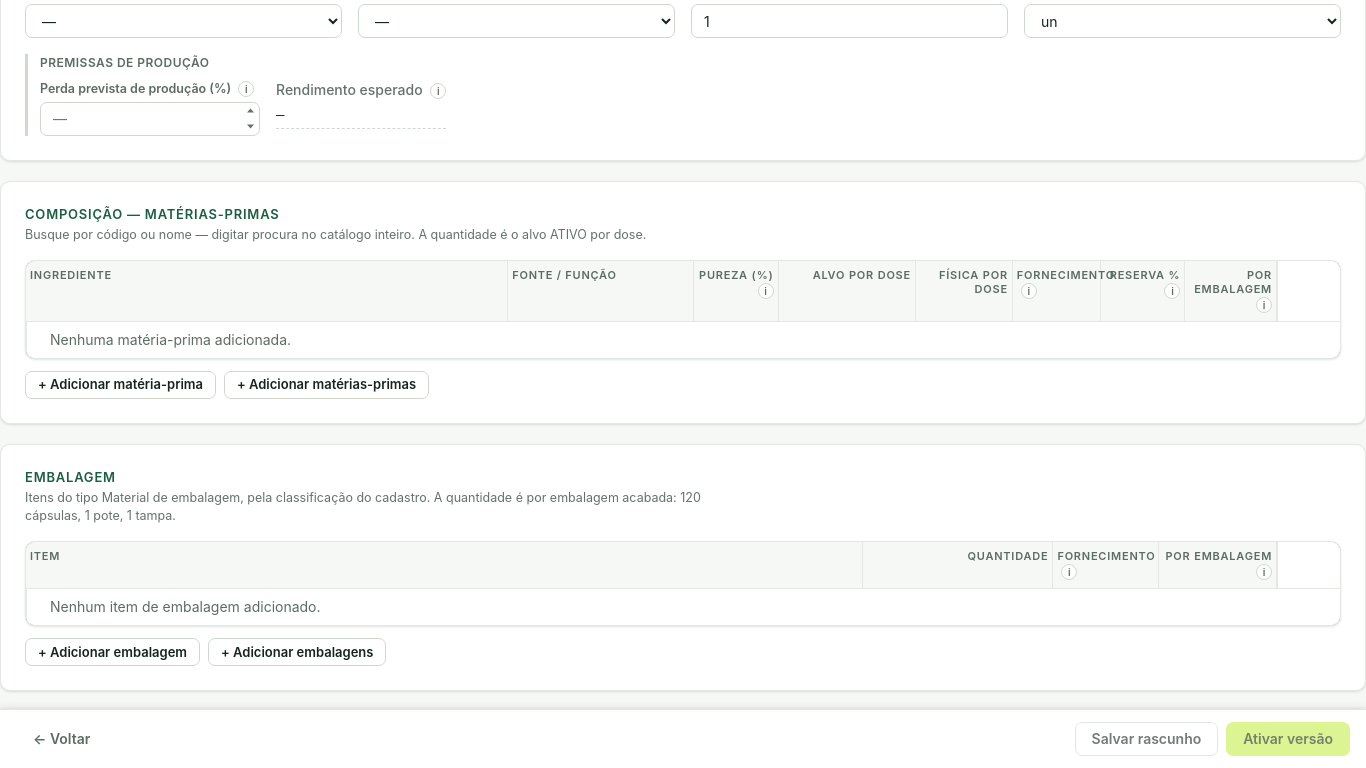
Scenario: FORM-UOM-01 — unidade do componente › linha sem unidade escolhida diz o que falta e prende o salvar
(page scrolled)
Click the button "+ Adicionar matéria-prima": {"x": 120, "y": 385} 25,371 -> 216,399
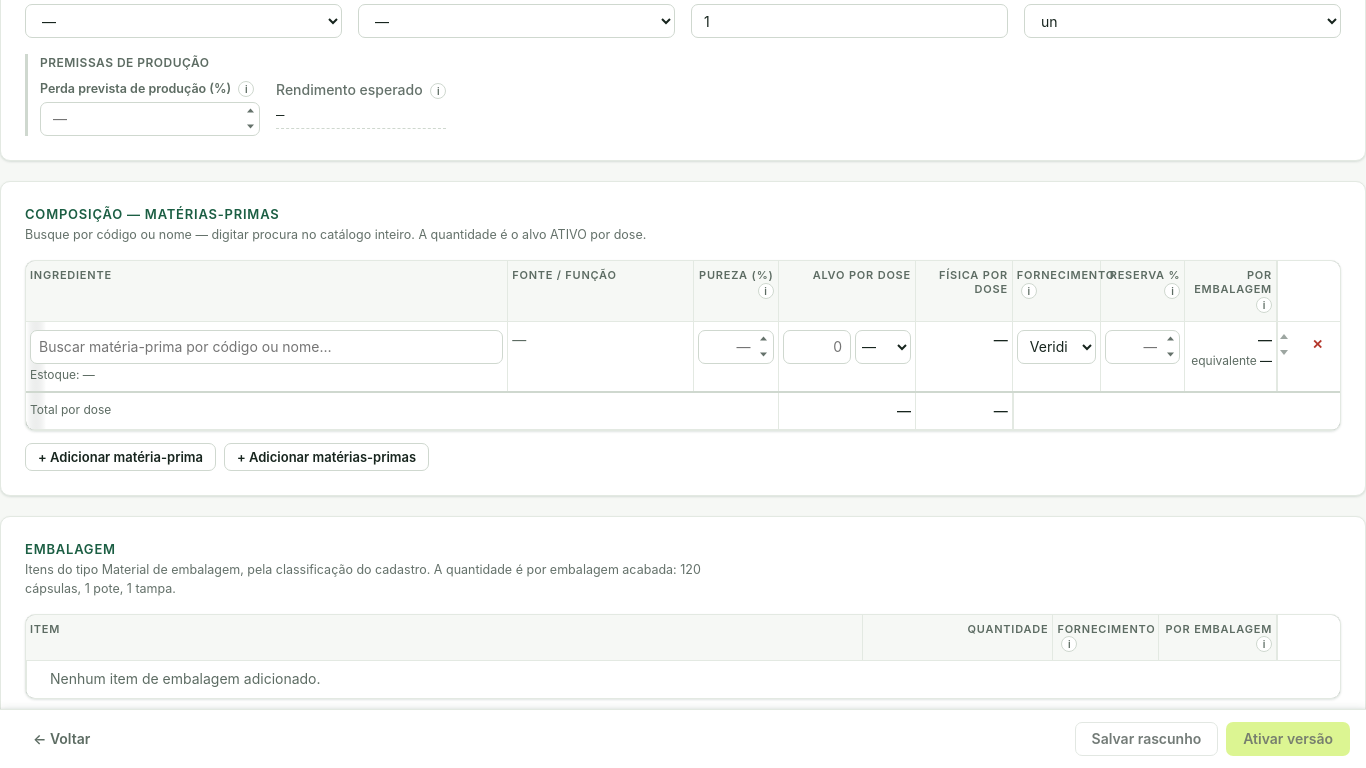
In the dropdown with placeholder "Buscar matéria-prima por código ou nome…": {"x": 267, "y": 346} 30,330 -> 503,364, type "Vitamina"
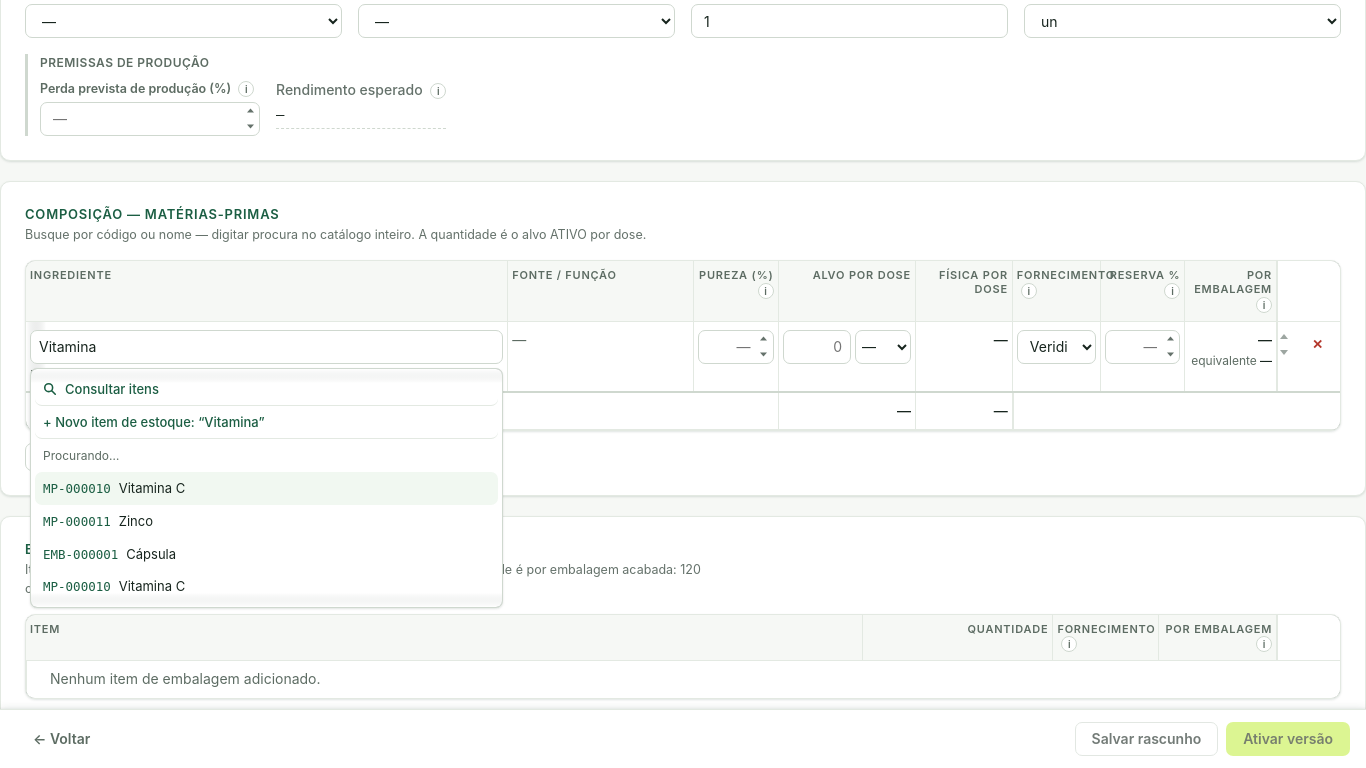
Press the mouse on the 1st option "MP-000010 Vitamina C": {"x": 77, "y": 489} 35,472 -> 498,505
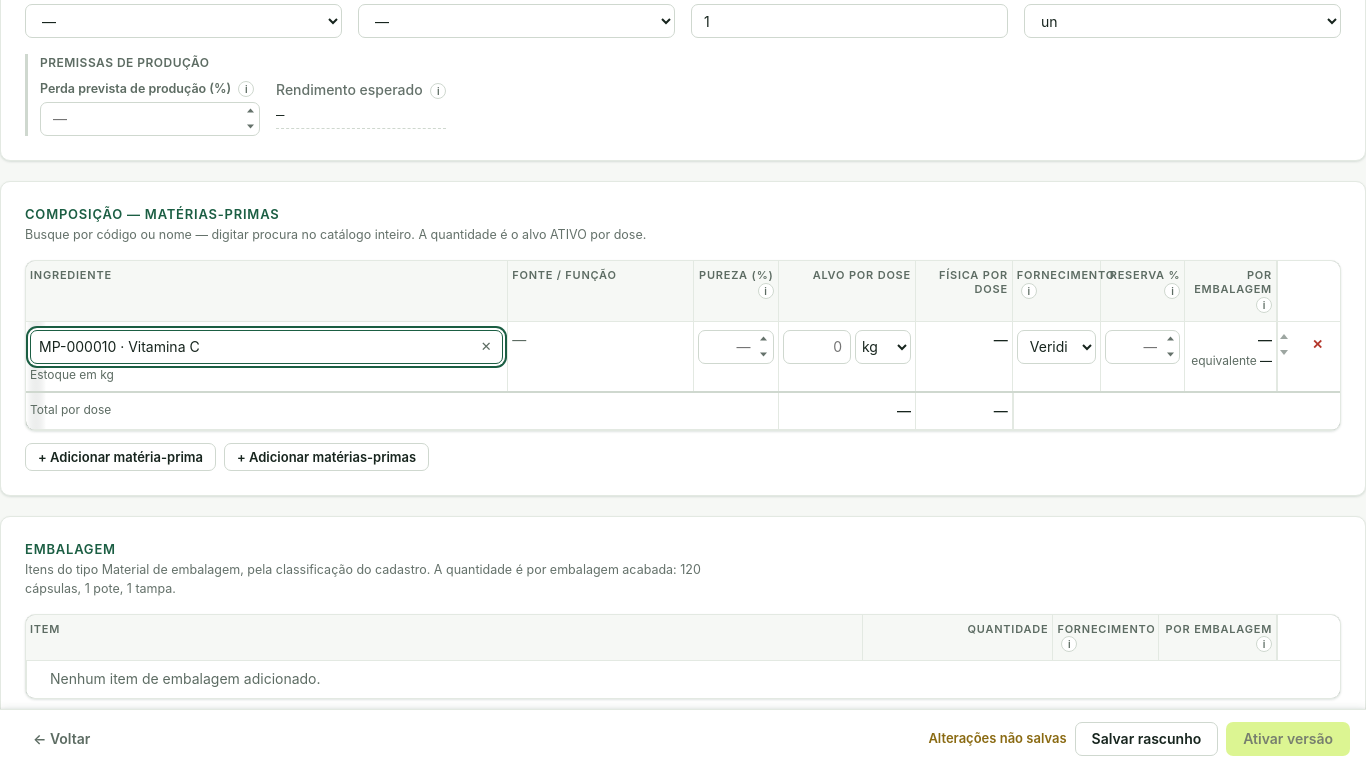
Select "—" in the dropdown named "Unidade de MP-000010": {"x": 883, "y": 346} 855,330 -> 911,364
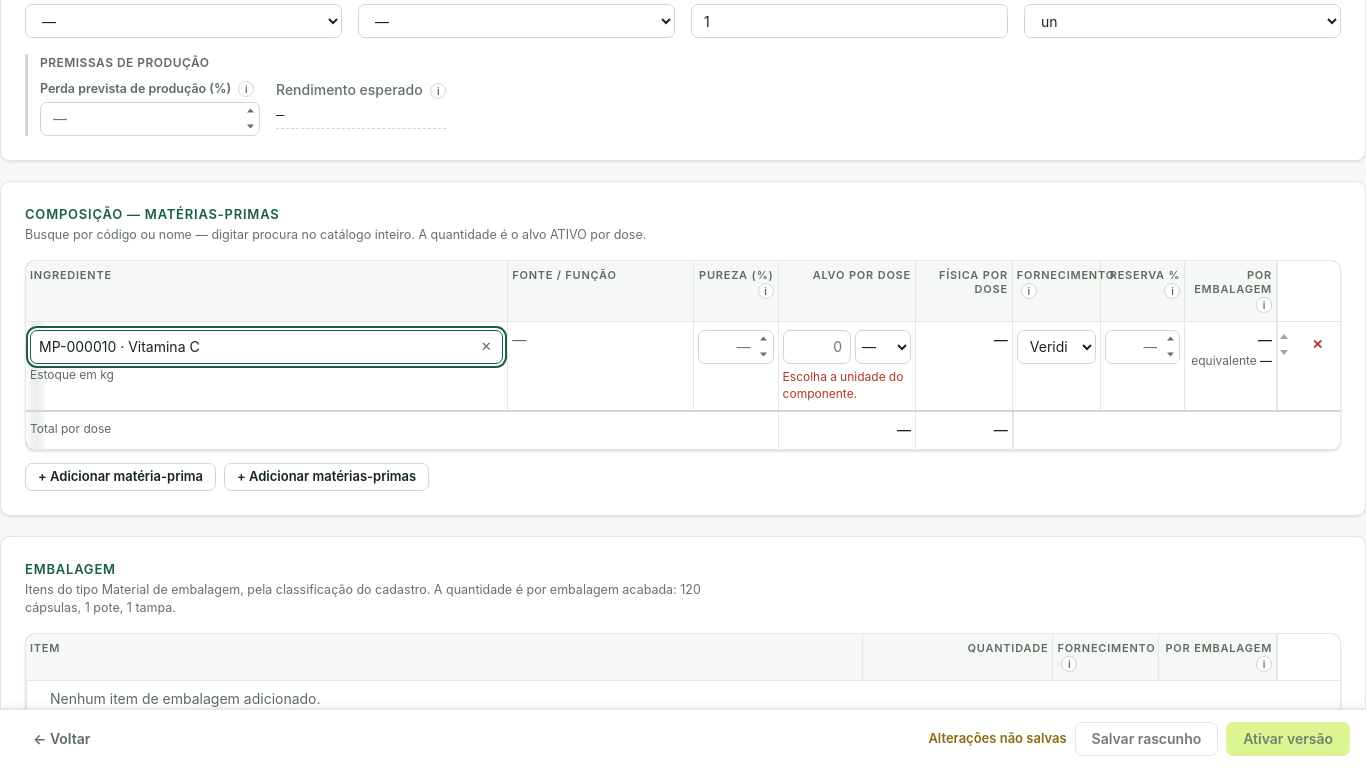
expect the text "Escolha a unidade do componente." is shown: met, box 783,368 -> 911,402
expect the button "Salvar rascunho" is disabled: met, box 1075,722 -> 1218,756
